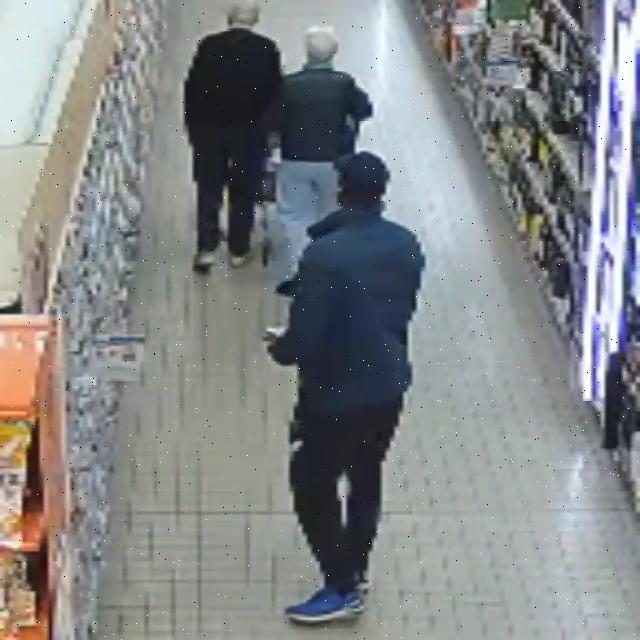person: (266, 153, 424, 623), (185, 0, 282, 271), (271, 27, 372, 280)
